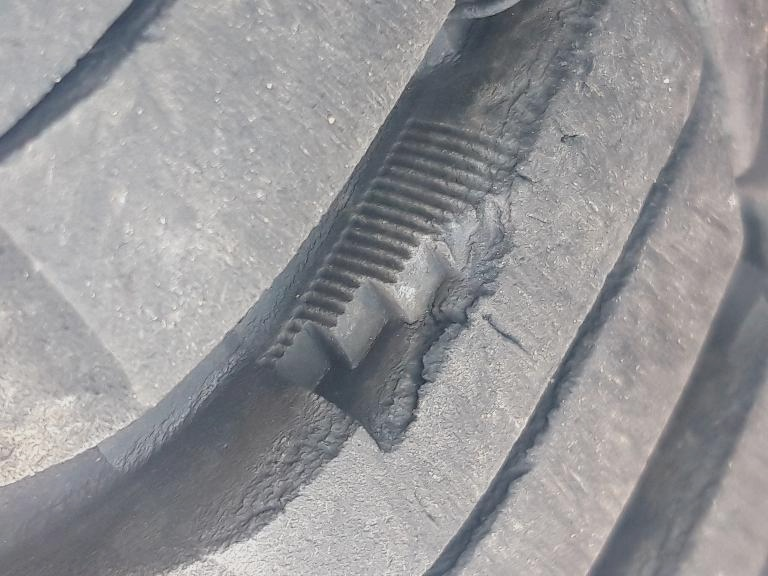temoin:80: (247, 110, 566, 465)
